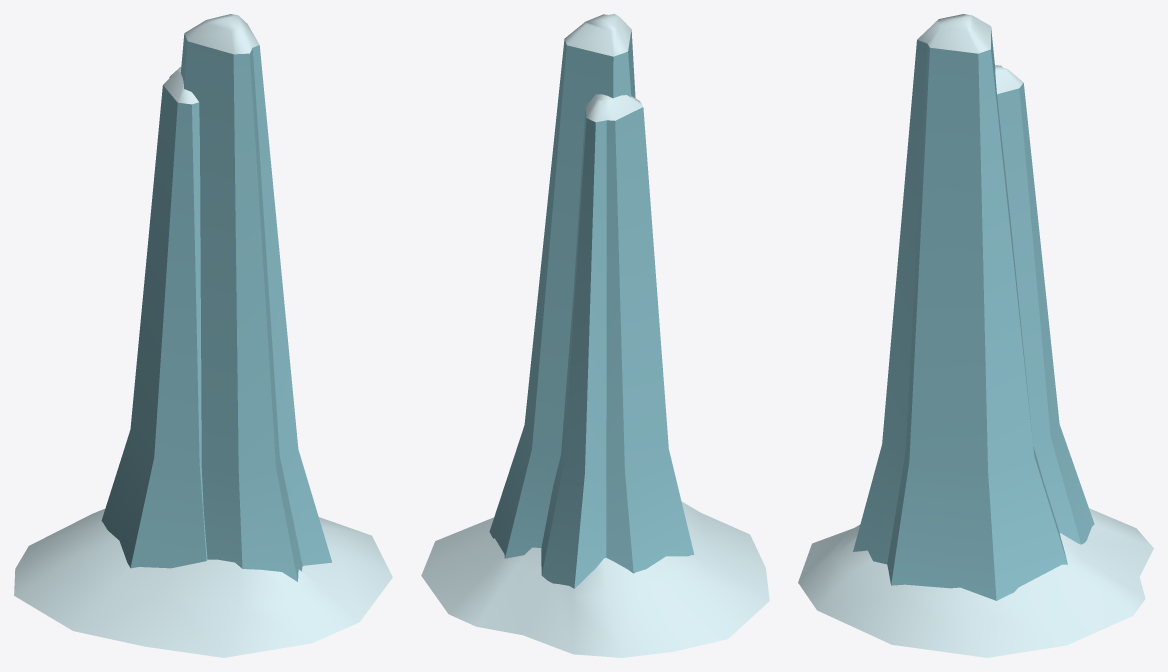
The model's file is mdl_iceCliff06.fbx.
The picture shows the model from 3 angles, left to right: view 1: azimuth 30°, elevation 25°; view 2: azimuth 150°, elevation 25°; view 3: azimuth 270°, elevation 25°; orthographic projection. The views are drawn at different scales.
Visible parts, largest first — view 1: mdl_iceCliff07; view 2: mdl_iceCliff07; view 3: mdl_iceCliff07.
Part boxes in pixels (x1,y1,x2,y2): mdl_iceCliff07: [14, 14, 392, 657]; mdl_iceCliff07: [421, 14, 769, 657]; mdl_iceCliff07: [798, 14, 1153, 657].
Size of the model in its own units: 112 by 184 by 106.
1 material, 1 textured.
